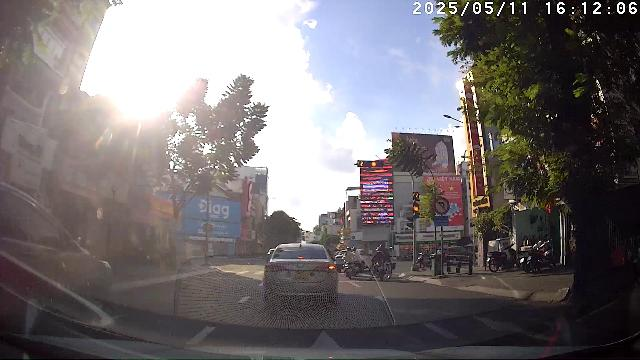123a-cam-re-trai: (433, 197, 450, 215)
